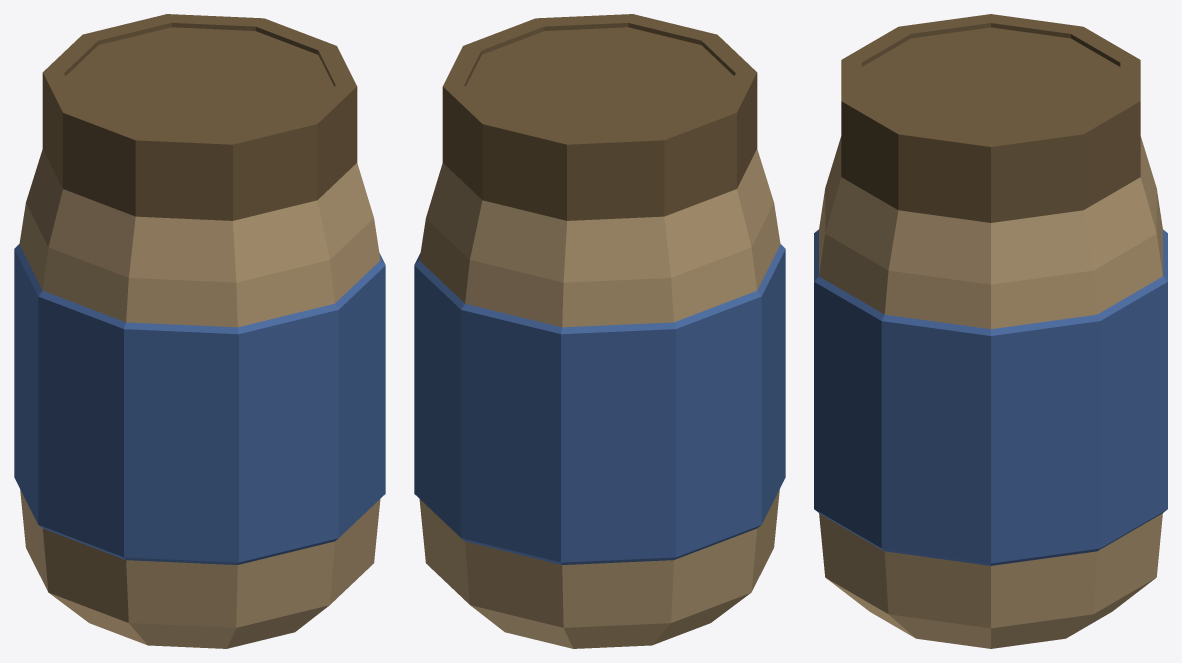
File: PeanutButter_2.gltf
3 renders of one model, left to right at view 1: azimuth 30°, elevation 25°; view 2: azimuth 150°, elevation 25°; view 3: azimuth 270°, elevation 25°, orthographic.
Parts seen in each view (by area): view 1: PeanutButter_2; view 2: PeanutButter_2; view 3: PeanutButter_2.
Part boxes in pixels (<box>): PeanutButter_2: <box>14,14,385,648</box>; PeanutButter_2: <box>414,14,785,648</box>; PeanutButter_2: <box>814,14,1167,648</box>.
Bounding box in the file's own units: 0.4746 × 0.7243 × 0.4514.
